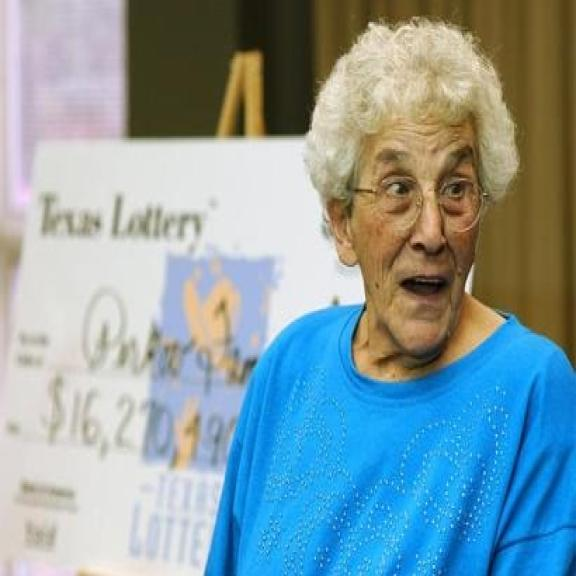face: (324, 114, 485, 362)
